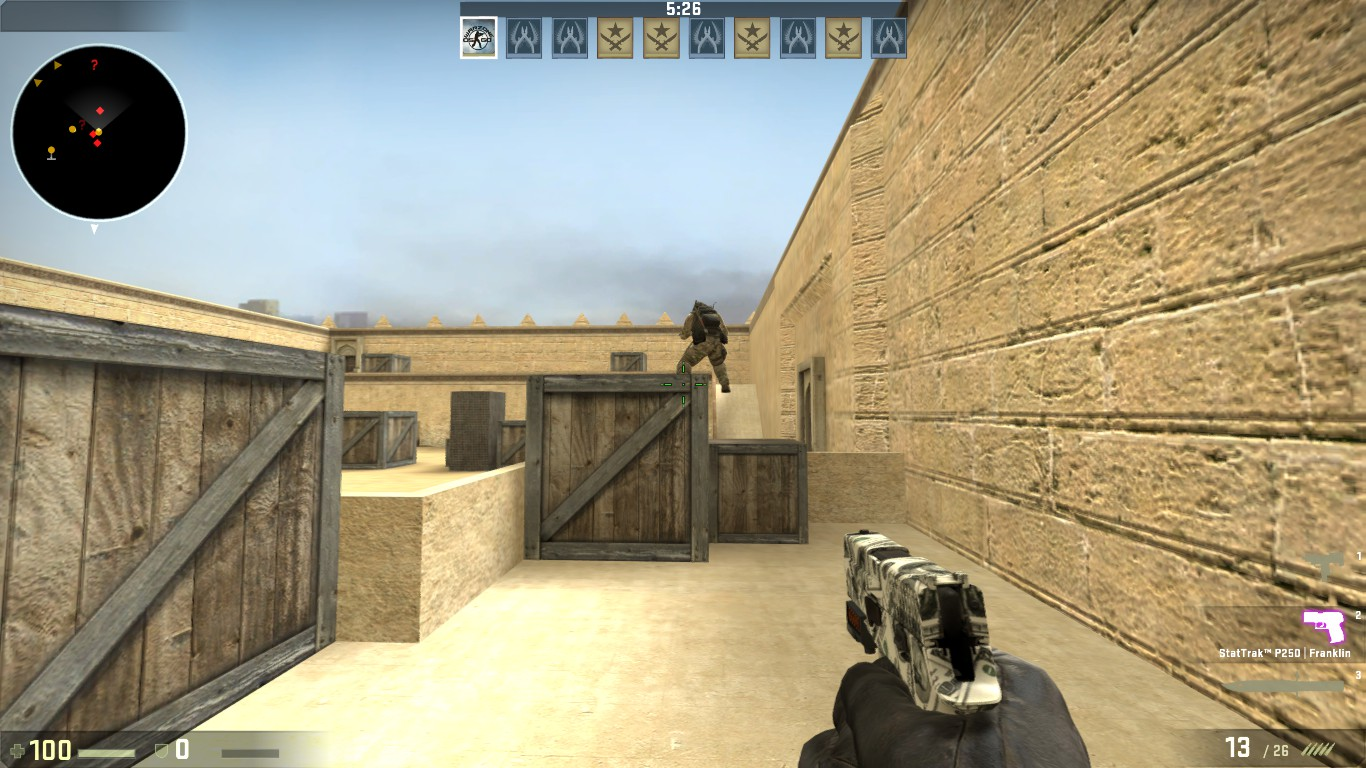c: (679, 300, 728, 390)
ch: (692, 300, 708, 313)
